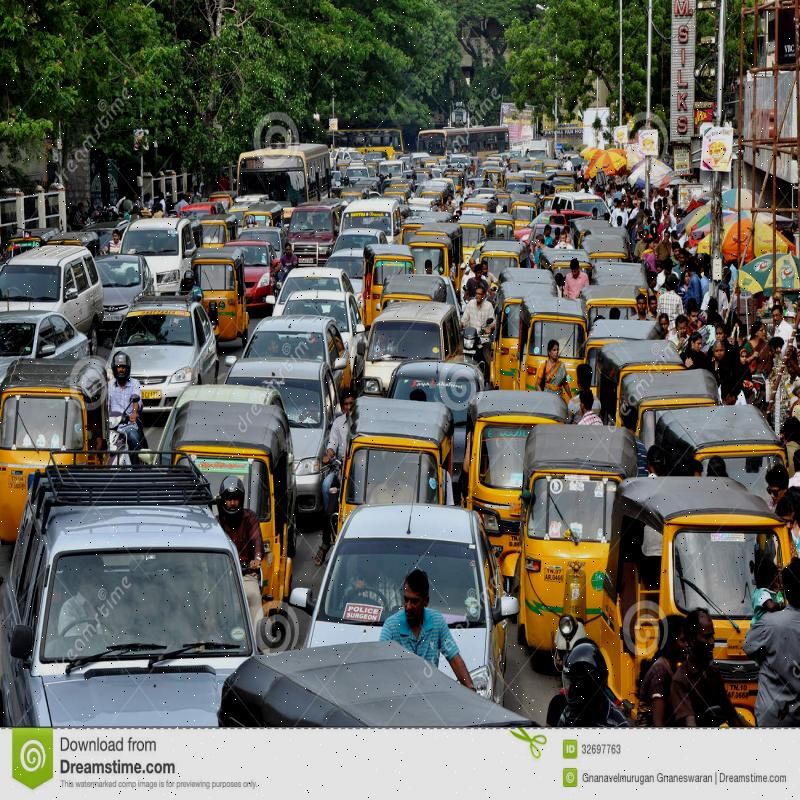auto: (602, 463, 790, 725), (165, 408, 316, 579), (522, 422, 629, 634), (468, 396, 559, 577), (8, 385, 100, 530), (333, 406, 430, 512), (480, 262, 542, 372), (524, 298, 601, 382), (354, 235, 419, 309), (645, 369, 705, 440)
car: (28, 453, 264, 734), (334, 489, 484, 800), (219, 353, 346, 479), (106, 284, 205, 406), (233, 312, 362, 388), (279, 255, 351, 317)
